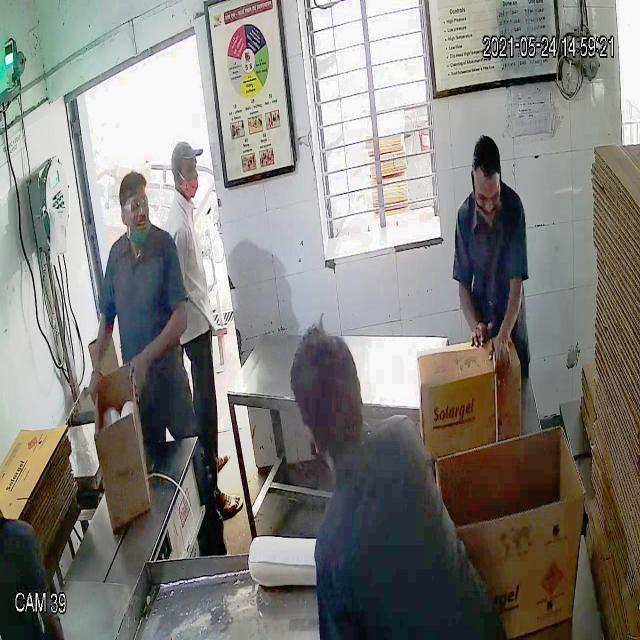glasses: (118, 194, 150, 216)
